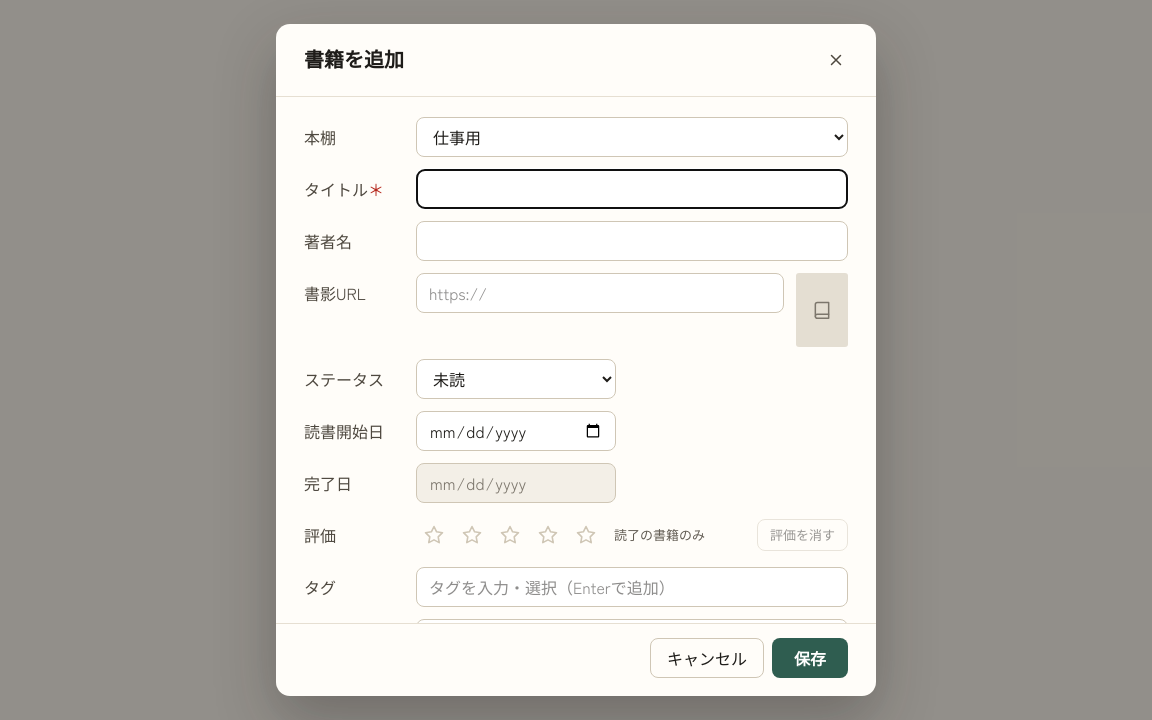
it: 登録モード › API の入力エラー（details）を、該当する入力欄の下に表示する
Type "三体" into the field labelled "タイトル＊". click: (632, 189)
box: [416,169,848,209]
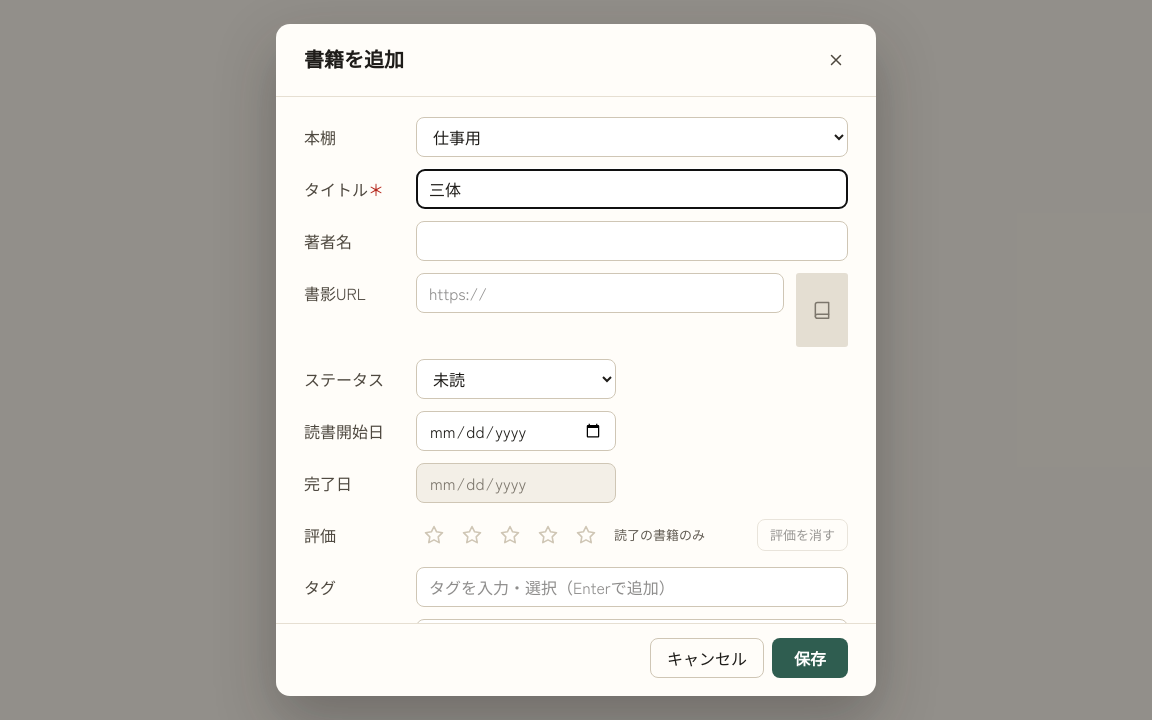
Click the button "保存". click: (810, 658)
box: [772,638,848,678]
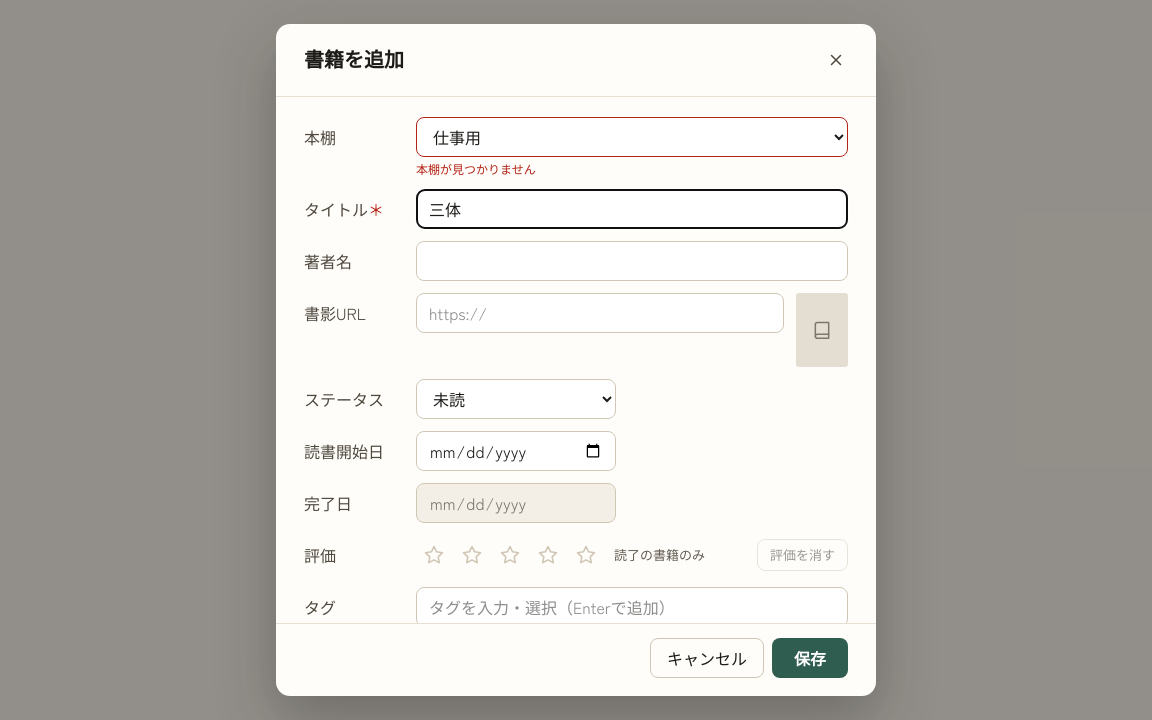
expect the text "本棚が見つかりません" is shown: met, box [416,160,536,177]
